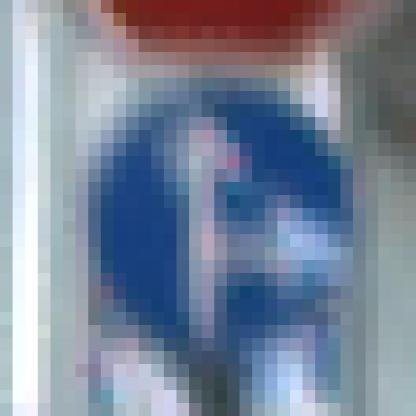Straight or Right: (77, 66, 341, 352)
